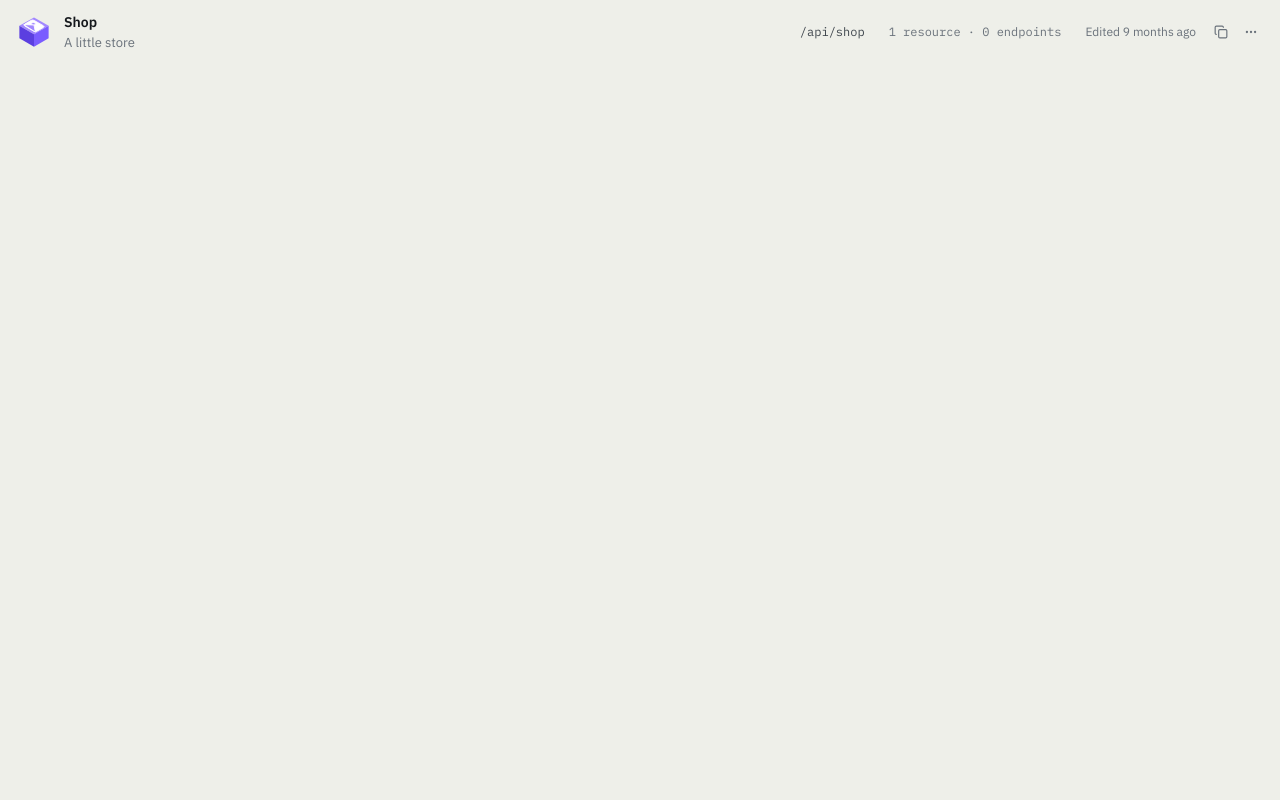
Scenario: opens the icon picker instead of the project when the icon is clicked
This screenshot has width=1280, height=800.
Click the button named "Change the icon for Shop": (34, 32) [16,14,52,50]
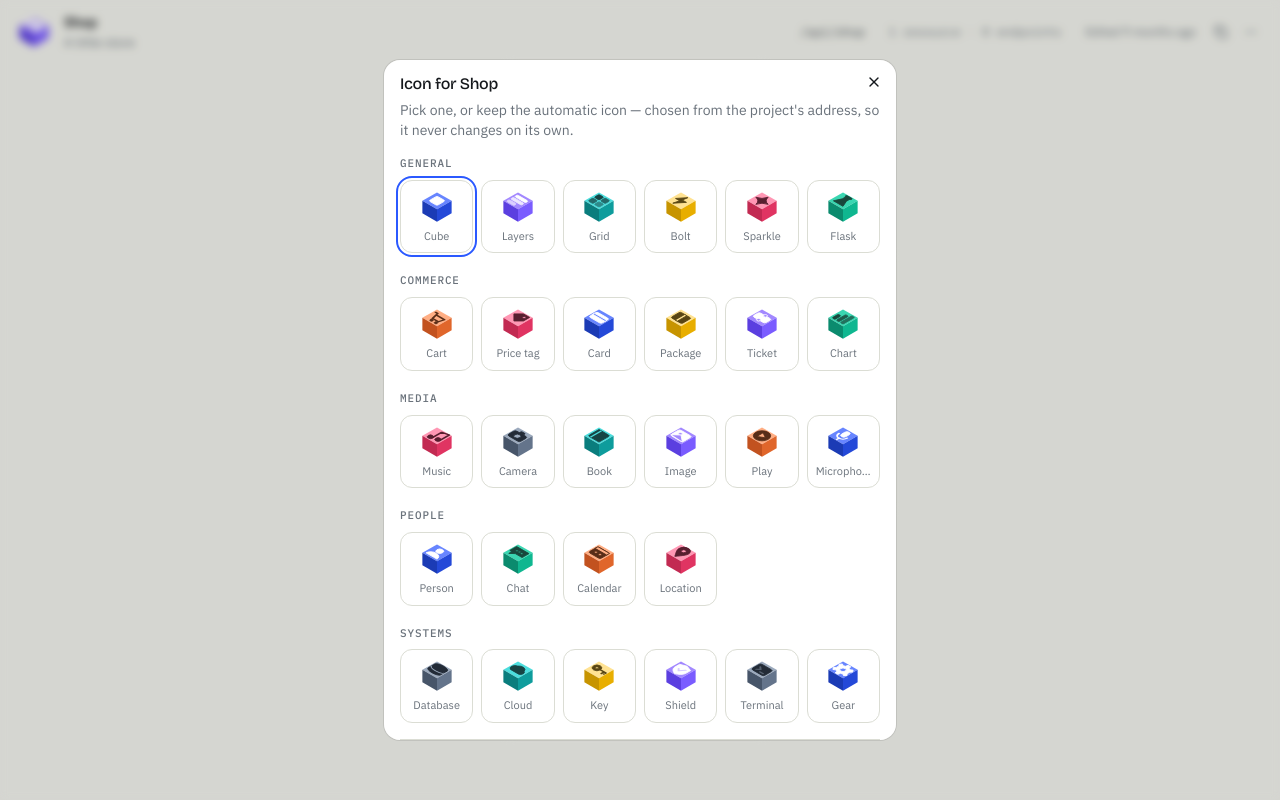
Expected: the dialog is shown, [384,60,896,740]
